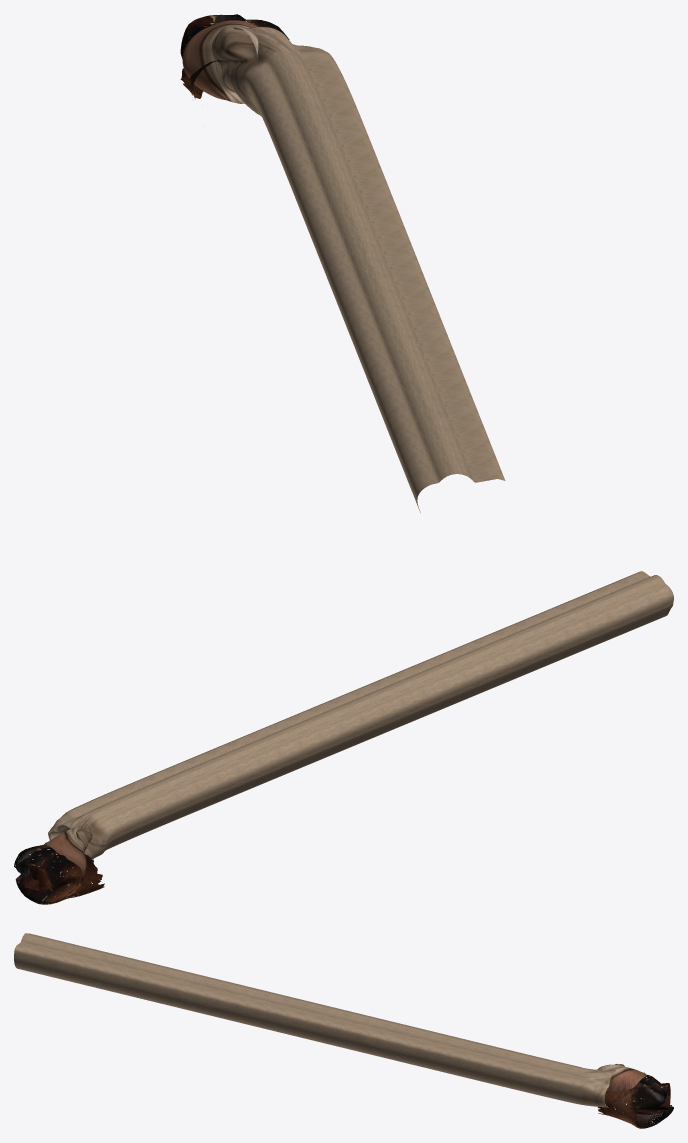
File: boar-grip-v5.glb
The picture shows the model from 3 angles, top to bottom: view 1: azimuth 30°, elevation 25°; view 2: azimuth 150°, elevation 25°; view 3: azimuth 270°, elevation 25°; orthographic projection. The views are drawn at different scales.
Visible parts, largest first — view 1: boar-card-grip; view 2: boar-card-grip; view 3: boar-card-grip.
Boxes of the visible parts, <box> form: boar-card-grip: <box>180,14,505,512</box>; boar-card-grip: <box>14,571,673,904</box>; boar-card-grip: <box>14,933,673,1128</box>.
Size of the model in its own units: 1.04 by 0.3837 by 2.48.
Materials: 2 (2 with a texture image).
